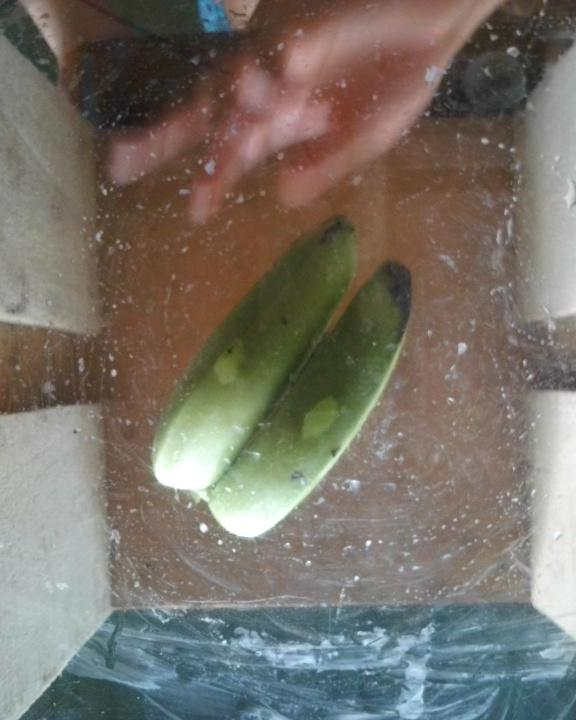CLASS B: (122, 206, 446, 558)
Class A: (374, 261, 418, 339), (282, 450, 317, 496), (325, 212, 356, 249), (319, 438, 348, 466)
